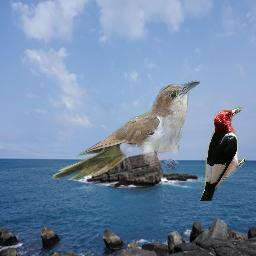Cuckoo: (51, 80, 200, 180)
Woodpecker: (198, 106, 245, 201)
